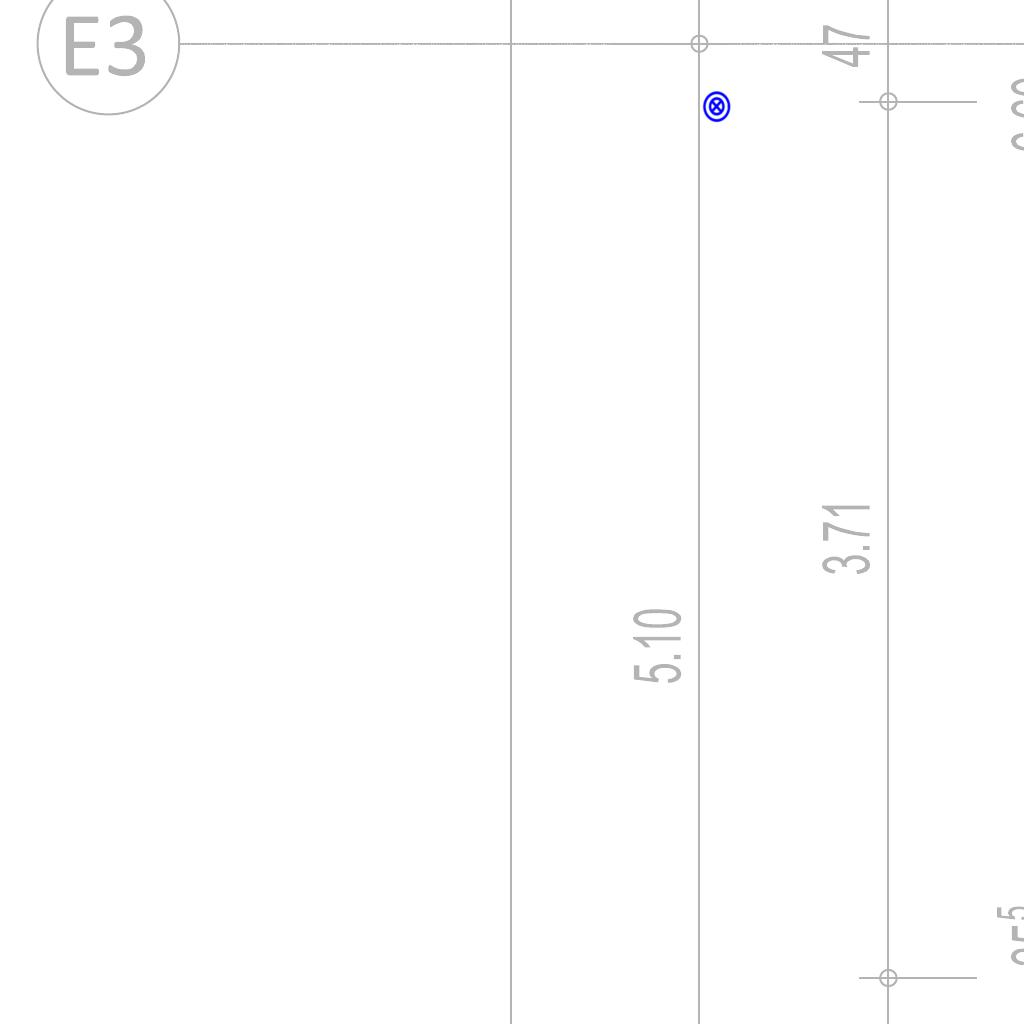Taster_beleuchtet: (700, 90, 733, 123)
